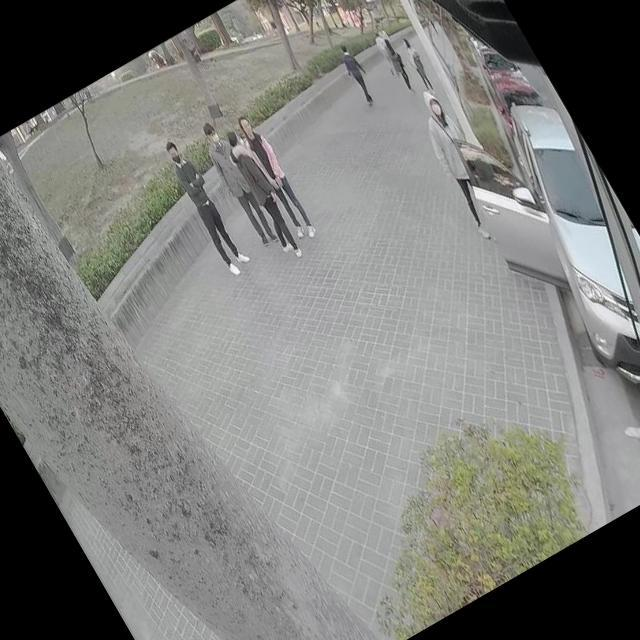person: (398, 80, 516, 246), (157, 134, 251, 274), (220, 126, 310, 262), (193, 117, 282, 250), (236, 112, 320, 240), (330, 38, 382, 109), (398, 34, 438, 94), (380, 38, 418, 92)
